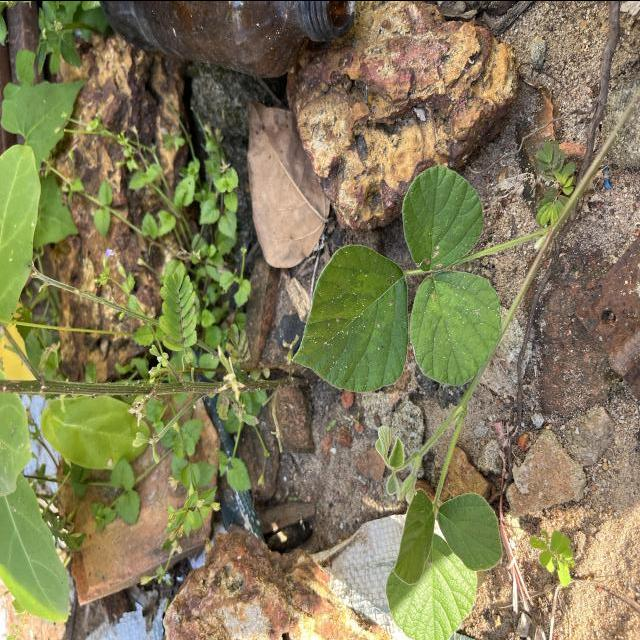Pseudarthria viscida: (286, 160, 504, 394)
